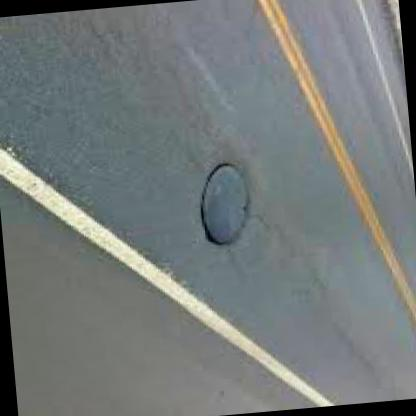manholes: (178, 148, 266, 258)
